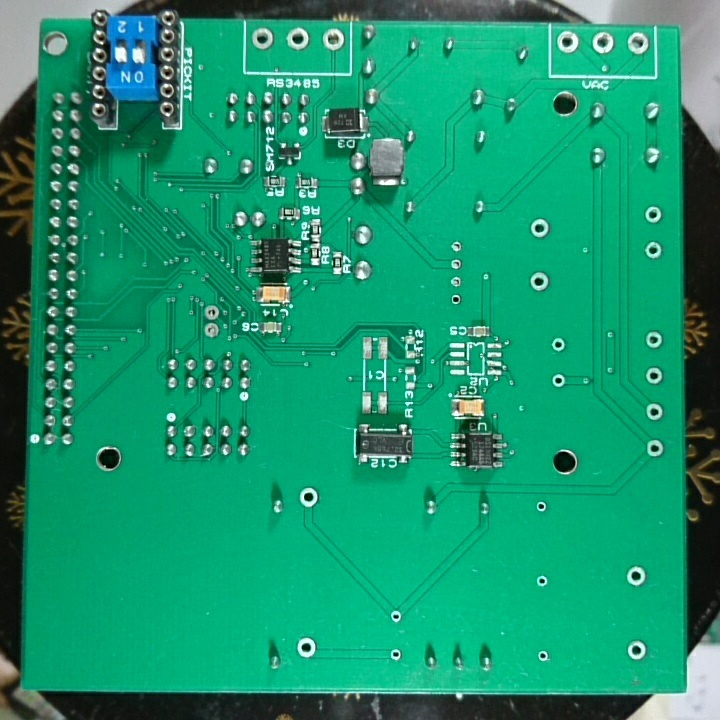F: (625, 29, 651, 60), (589, 29, 616, 58), (250, 26, 277, 53), (321, 25, 346, 54), (295, 634, 321, 661), (284, 26, 311, 52), (555, 29, 580, 57), (527, 269, 553, 295), (623, 563, 648, 588), (625, 637, 649, 663), (297, 485, 322, 509), (527, 215, 551, 240), (644, 437, 668, 460), (642, 329, 666, 352), (643, 239, 666, 260), (642, 203, 663, 226), (644, 400, 664, 424), (644, 365, 665, 387), (201, 320, 222, 340), (548, 335, 568, 355), (549, 372, 570, 391), (448, 255, 467, 276), (201, 303, 223, 321), (534, 571, 551, 592), (532, 498, 551, 516), (534, 646, 551, 666), (448, 238, 465, 255), (387, 608, 403, 626), (448, 291, 464, 307), (448, 272, 463, 289), (386, 648, 402, 663)
